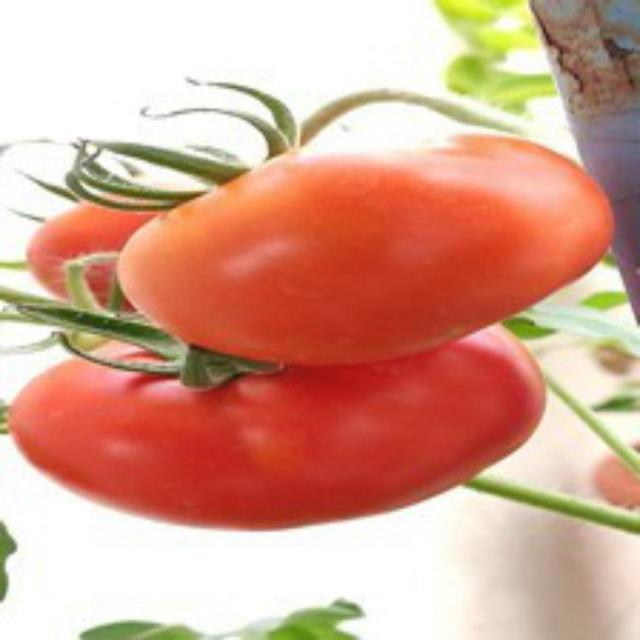tomato: (112, 142, 640, 363)
